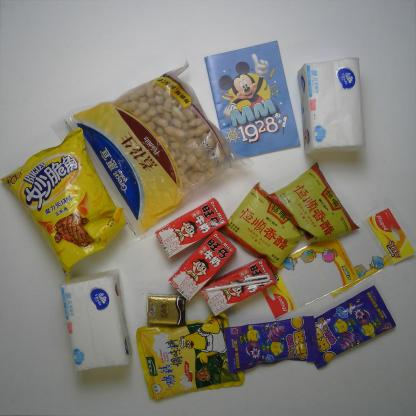Candy: (296, 283, 398, 373), (222, 316, 321, 376)
Dried Food: (48, 58, 249, 240)
Milk: (168, 227, 238, 306), (153, 193, 230, 264), (201, 256, 282, 320)
Puffed Food: (0, 128, 128, 290)
Seasoner: (135, 306, 246, 404), (216, 181, 312, 274), (266, 160, 362, 246)
Stationery: (202, 36, 302, 163), (255, 230, 362, 322), (323, 207, 416, 299)
Tissue: (294, 53, 369, 162), (57, 268, 132, 374), (144, 292, 189, 330)
